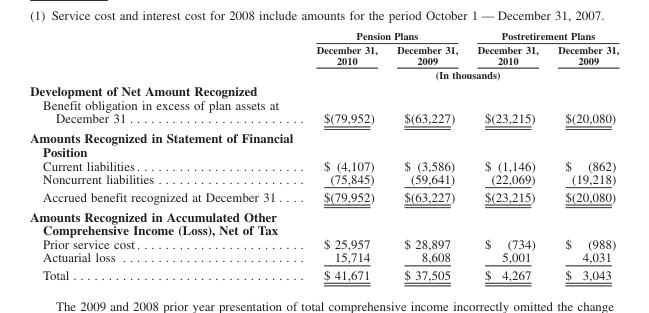table: (29, 29, 618, 281)
table column: (29, 29, 298, 281), (298, 29, 386, 281), (466, 29, 547, 281), (386, 29, 466, 281), (547, 29, 618, 281)
table column header: (29, 29, 618, 81)
table projected row header: (29, 127, 618, 158), (29, 205, 618, 236), (29, 81, 618, 97)
table row: (29, 127, 618, 158), (29, 205, 618, 236), (29, 97, 618, 127), (29, 42, 618, 66), (29, 187, 618, 205), (29, 81, 618, 97), (29, 171, 618, 187), (29, 265, 618, 281), (29, 66, 618, 81), (29, 250, 618, 265), (29, 236, 618, 250), (29, 29, 618, 42), (29, 158, 618, 171)
table spanning cell: (298, 66, 618, 81), (298, 29, 466, 42), (466, 29, 618, 42)
